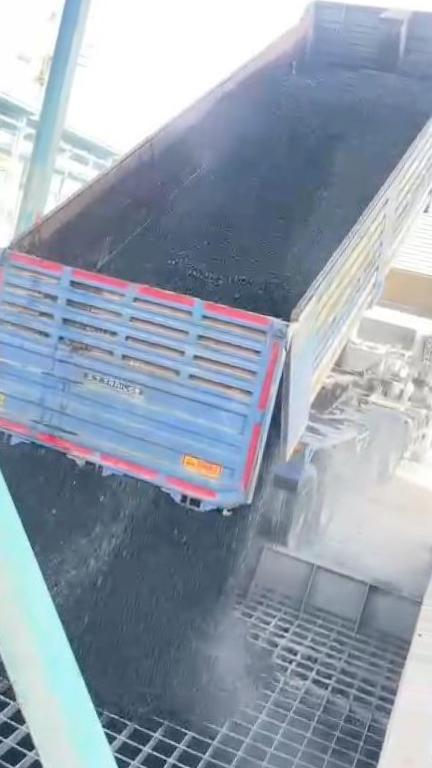gravel: (102, 71, 424, 317), (0, 444, 264, 720)
